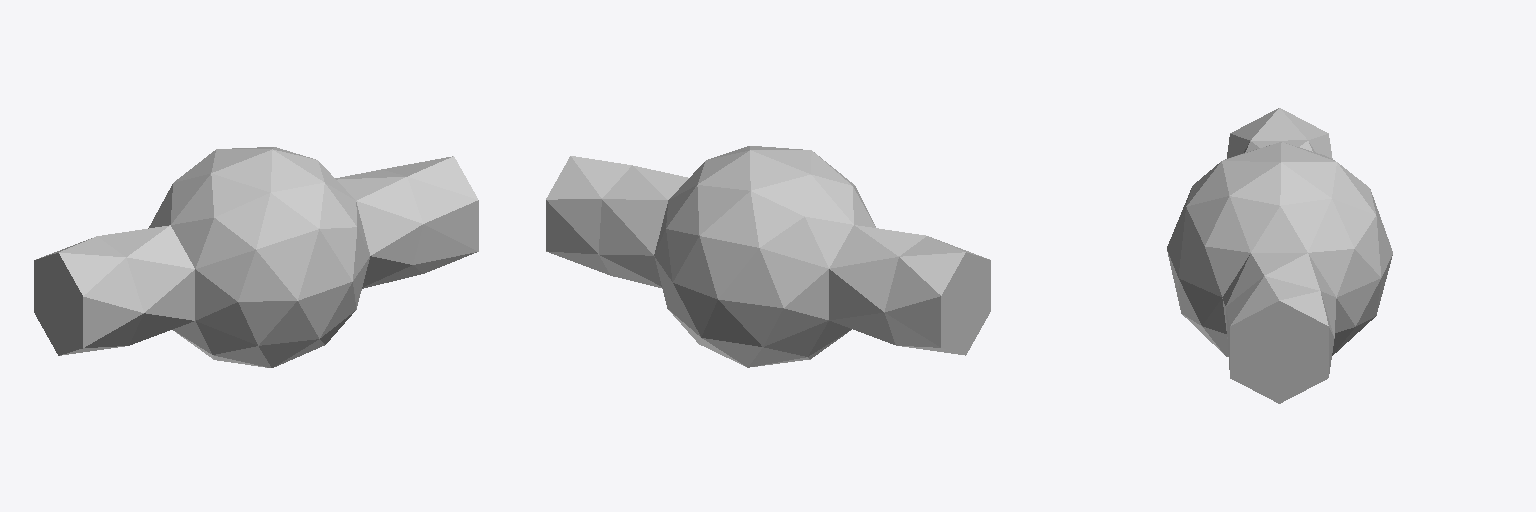
Rendered from cylsphere.obj.
3 renders of one model, left to right at view 1: azimuth 30°, elevation 25°; view 2: azimuth 150°, elevation 25°; view 3: azimuth 270°, elevation 25°, orthographic.
Bounding box in the file's own units: 4 × 1.97 × 1.99.